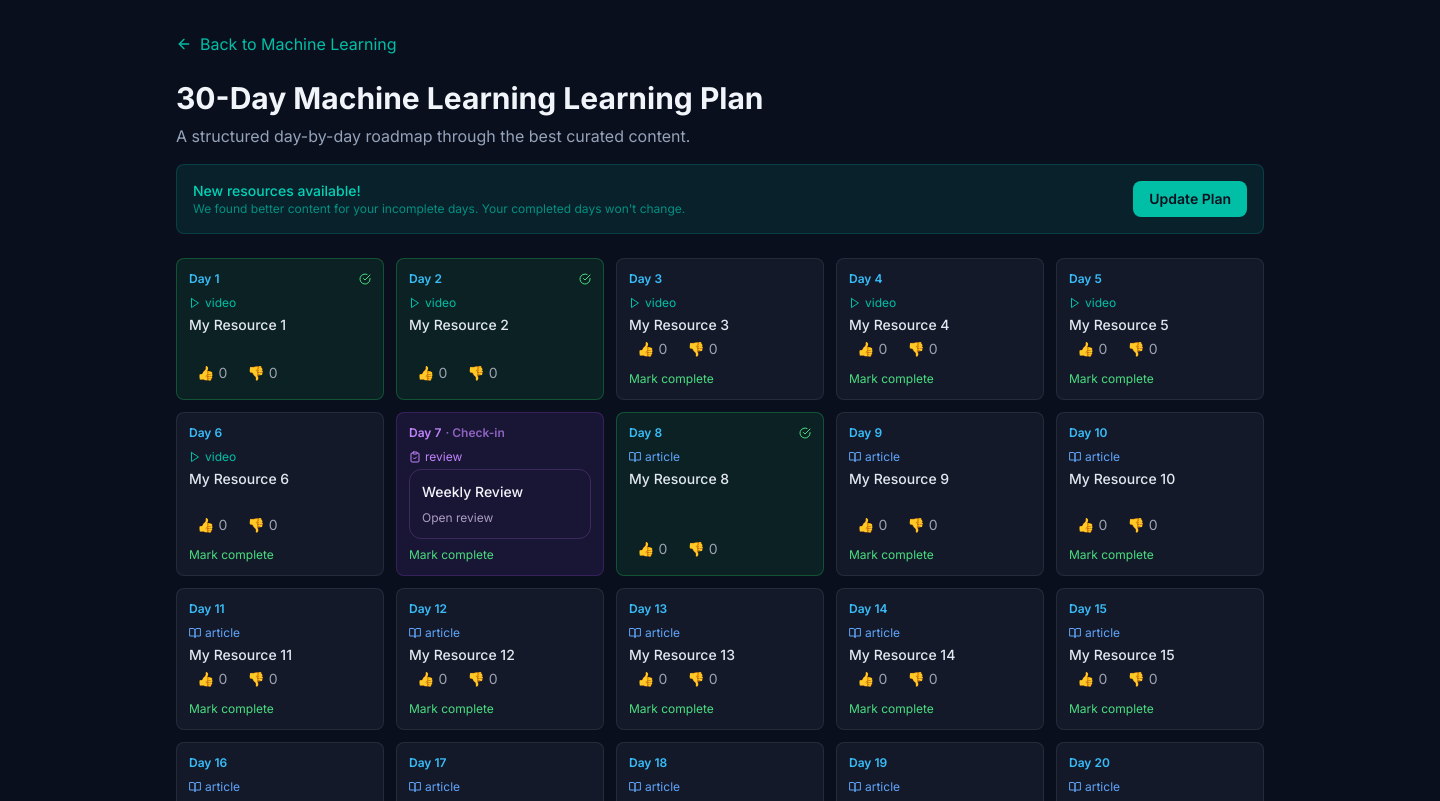
LearningPlanPage › refresh banner › clicking Update Plan immediately surfaces refreshed review content without a page reload
The image size is (1440, 801).
Click the button "Update Plan" at [1190, 199], box [1133, 181, 1247, 217]
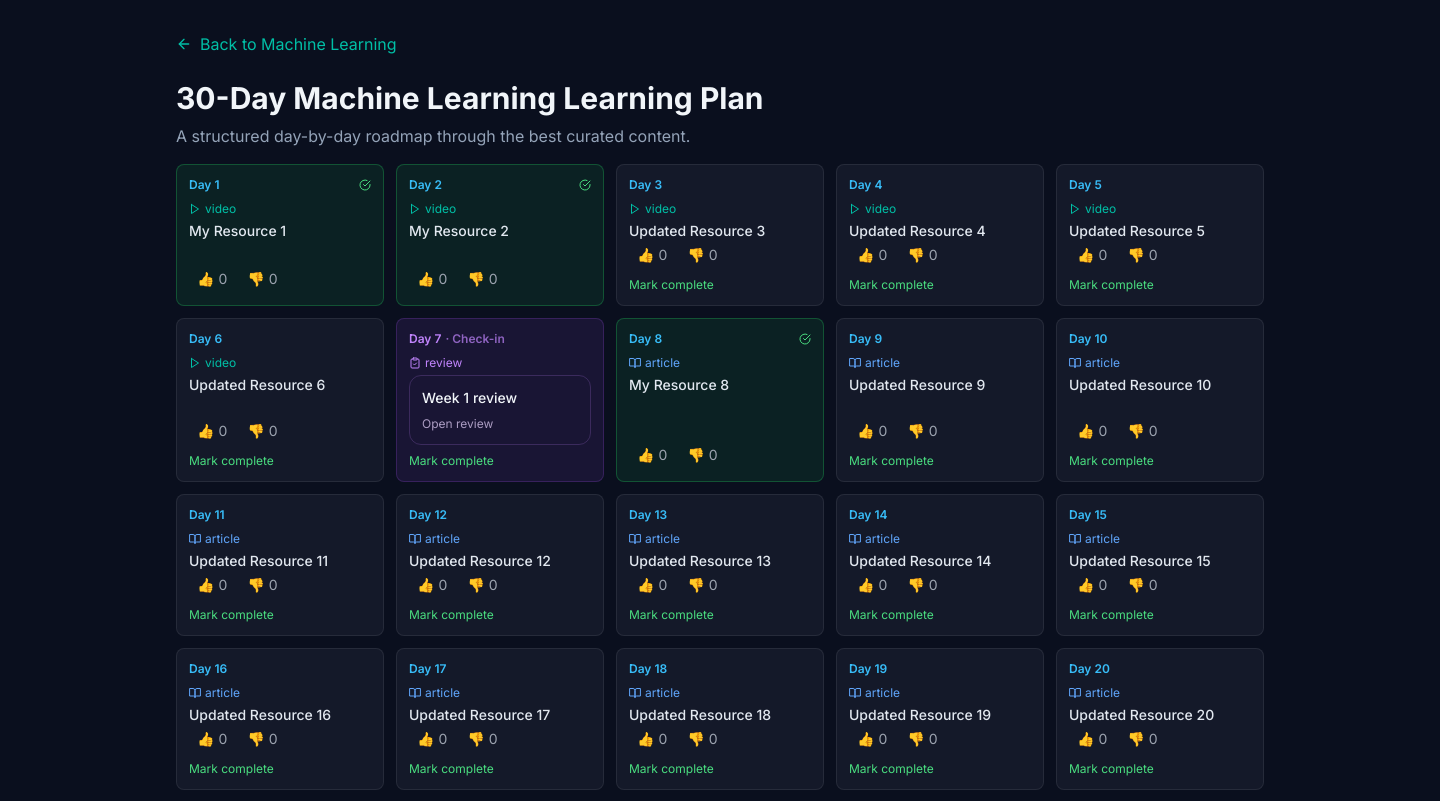
Expected: the button "Week 1 review Open review" is shown, [409, 375, 591, 445]
